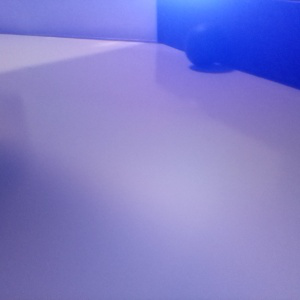dead_ball: (186, 21, 234, 68)
